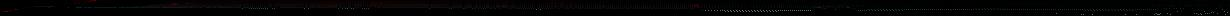Blue cone: (13, 9, 18, 10), (28, 7, 32, 8)
Yellow cone: (684, 4, 701, 7), (169, 3, 181, 7)
